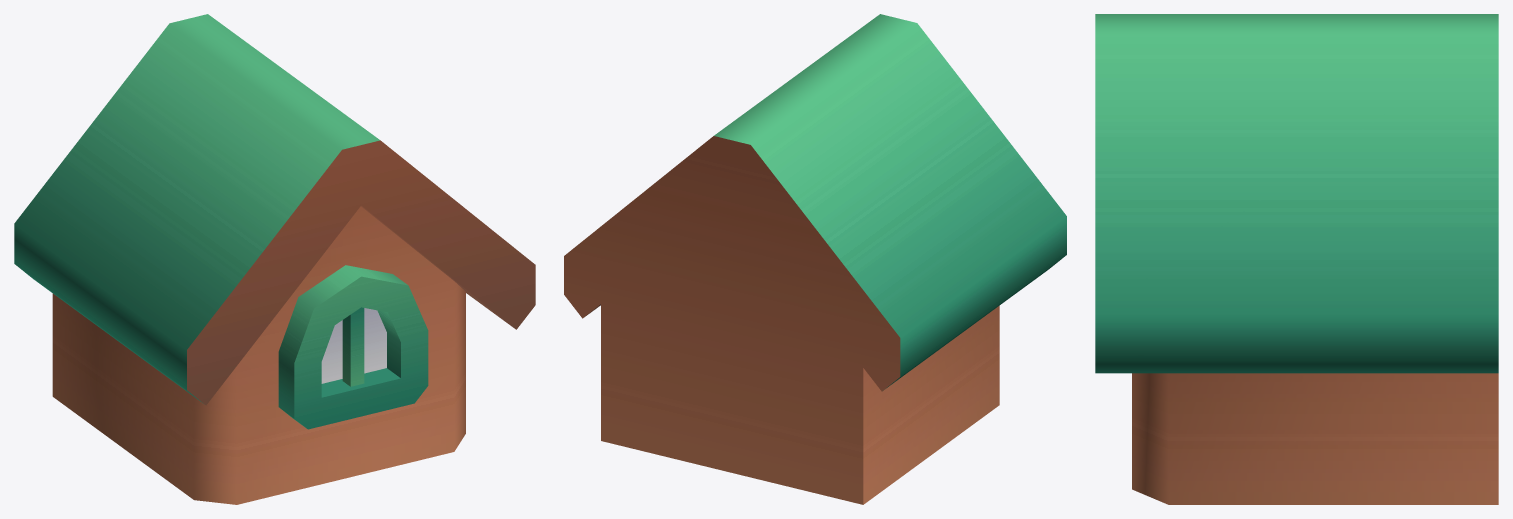
The model's file is kenney-holiday-cabin-roof-dormer.glb.
3 views of the same model, side by side, from view 1: azimuth 30°, elevation 25°; view 2: azimuth 150°, elevation 25°; view 3: azimuth 270°, elevation 25° (orthographic). The views are drawn at different scales.
Parts seen in each view (by area): view 1: cabin-roof-dormer; view 2: cabin-roof-dormer; view 3: cabin-roof-dormer.
Boxes of the visible parts, bbox=[...] form: cabin-roof-dormer: bbox=[14, 14, 535, 504]; cabin-roof-dormer: bbox=[564, 14, 1066, 504]; cabin-roof-dormer: bbox=[1095, 14, 1498, 504].
Size of the model in its own units: 1.28 by 1.21 by 1.1.
1 material, 1 textured.
